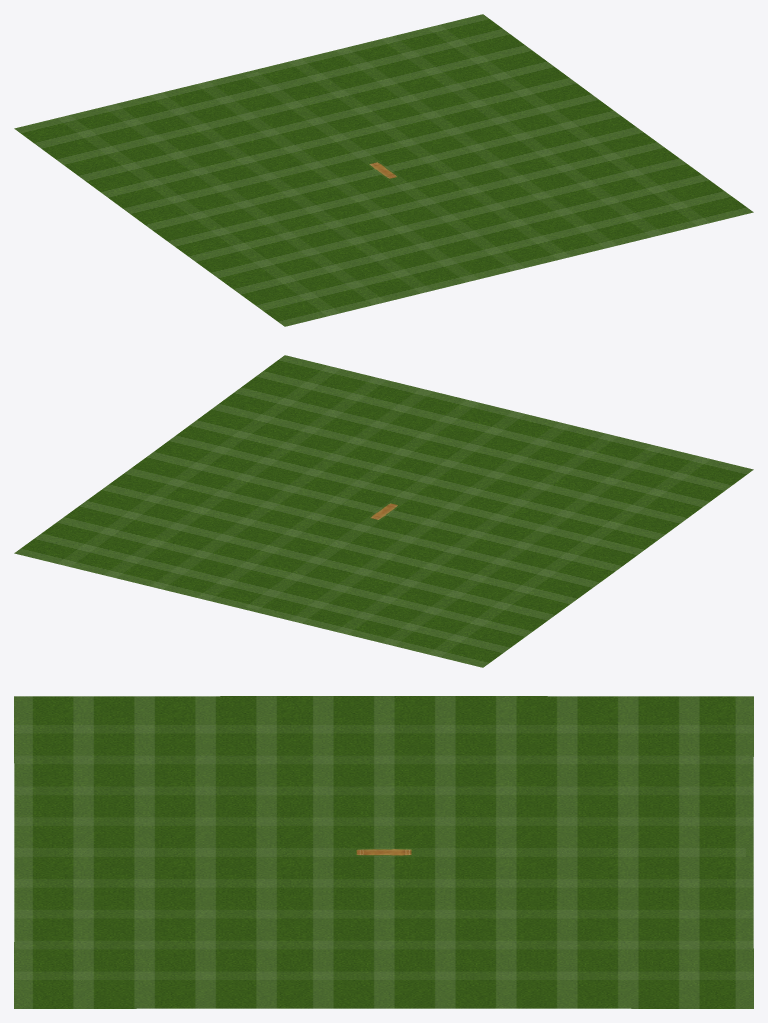
File: Pitch.fbx
3 renders of one model, top to bottom at view 1: azimuth 30°, elevation 25°; view 2: azimuth 150°, elevation 25°; view 3: azimuth 270°, elevation 25°, orthographic. The views are drawn at different scales.
Visible parts, largest first — view 1: pitch; view 2: pitch; view 3: pitch.
Boxes of the visible parts, x1,y1,x2,y2 form: pitch: (14, 14, 753, 326); pitch: (14, 355, 753, 667); pitch: (14, 696, 753, 1008).
Size of the model in its own units: 25110 by 0.00676 by 25090.
